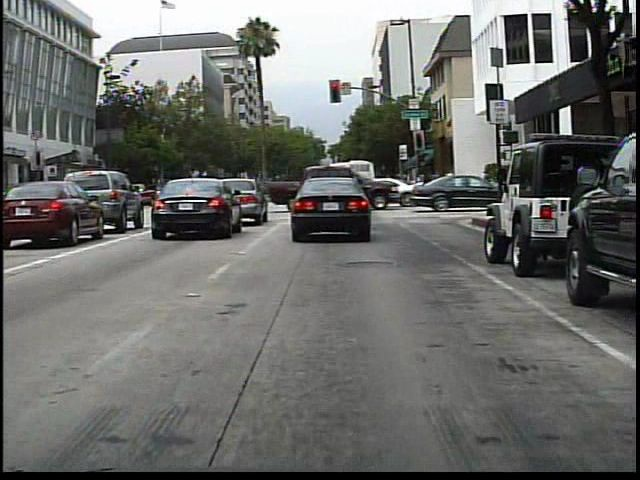person: (426, 166, 442, 198), (442, 167, 458, 195)
